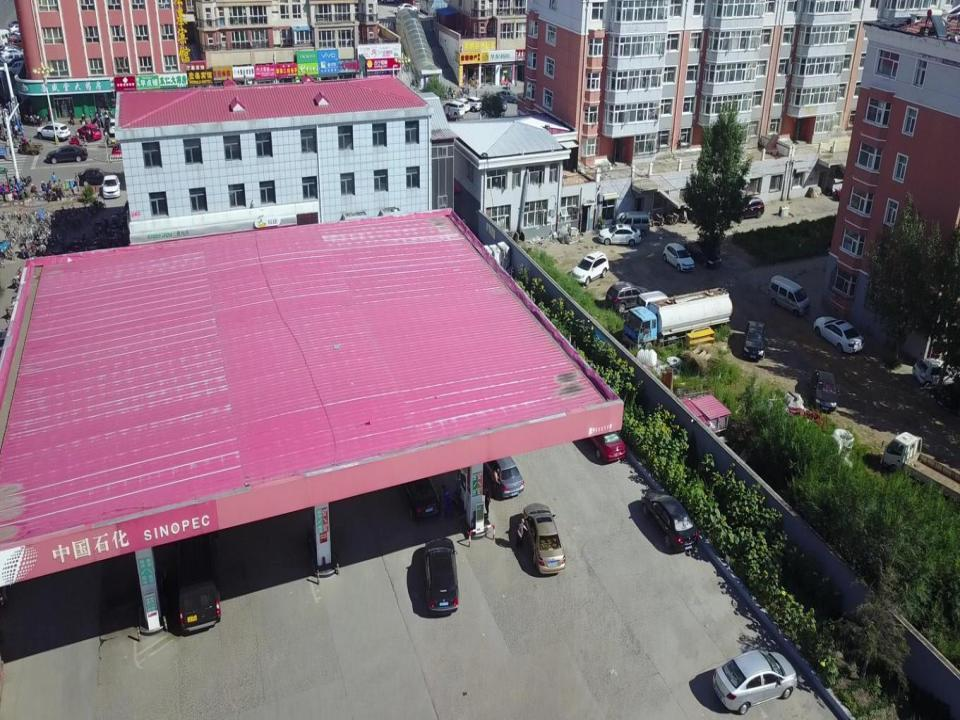car: (712, 650, 797, 715), (641, 488, 699, 550), (522, 502, 567, 573), (424, 536, 460, 614), (479, 441, 525, 499), (396, 466, 440, 519), (813, 315, 864, 355), (586, 419, 626, 462), (605, 280, 651, 313), (571, 250, 610, 286), (911, 359, 960, 387), (810, 370, 840, 411), (683, 240, 722, 268), (597, 223, 642, 247), (662, 242, 695, 273), (742, 320, 766, 360), (44, 144, 88, 164), (732, 196, 764, 222), (76, 166, 118, 185), (36, 121, 71, 142), (102, 174, 120, 200), (76, 122, 102, 140), (110, 142, 135, 160), (448, 98, 470, 113), (496, 90, 521, 103), (464, 96, 483, 112), (108, 115, 121, 136), (495, 96, 507, 111)
truck: (621, 286, 733, 355), (881, 429, 960, 508)
van: (172, 518, 221, 635), (768, 274, 810, 317), (634, 289, 670, 319), (616, 211, 651, 237), (439, 100, 465, 116)
